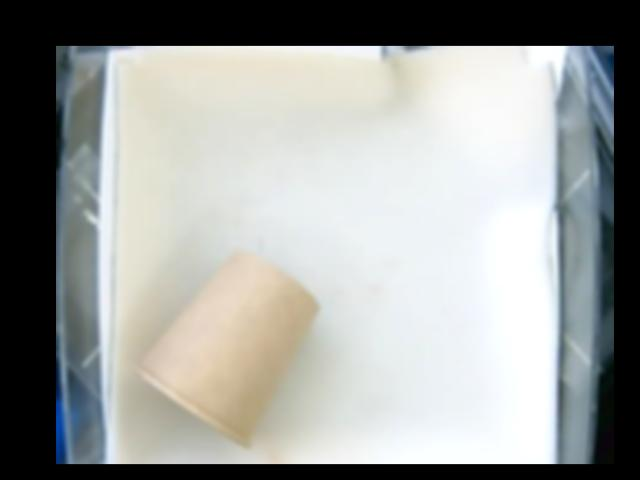Cup: (137, 252, 321, 448)
